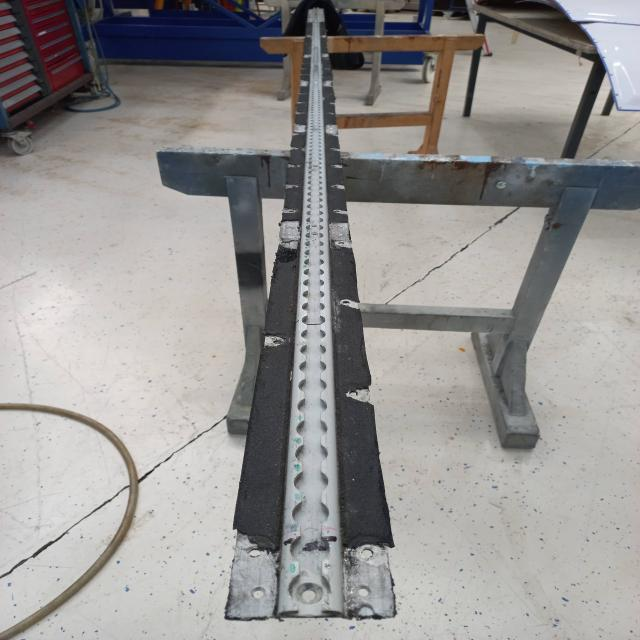Missing Fastener: (234, 536, 282, 568), (350, 534, 384, 562), (294, 581, 330, 605), (344, 581, 380, 603), (240, 580, 272, 604), (346, 381, 366, 401), (269, 332, 289, 348), (338, 296, 354, 308)
